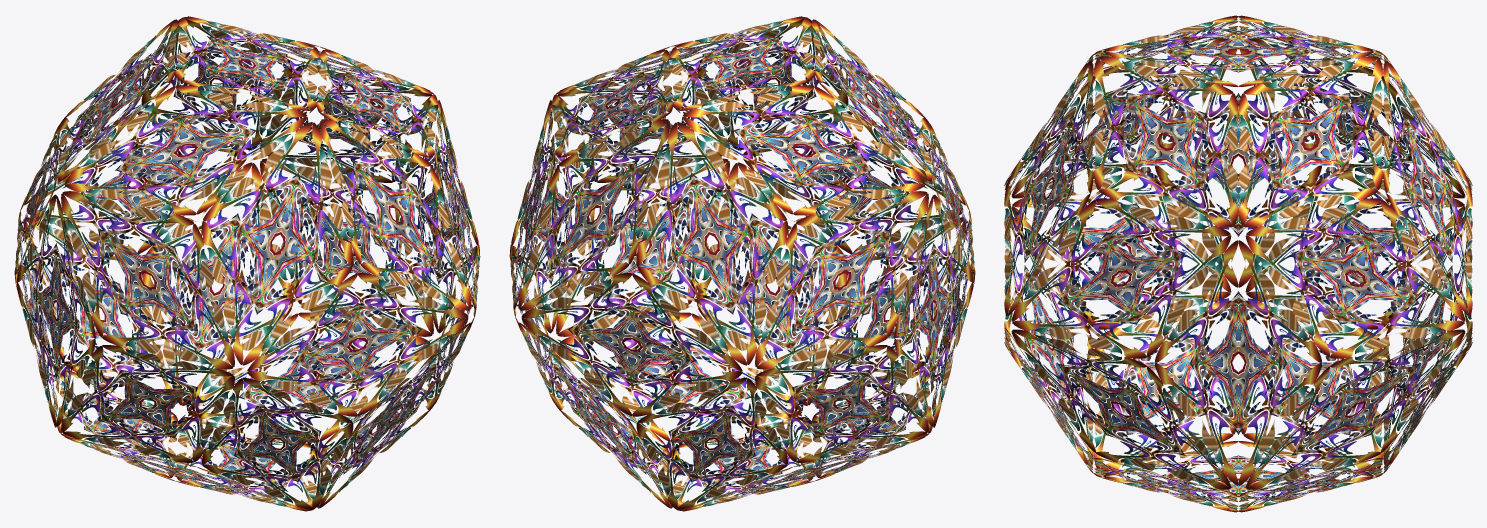
File: RhombicTriacontahedron9.obj
3 renders of one model, left to right at view 1: azimuth 30°, elevation 25°; view 2: azimuth 150°, elevation 25°; view 3: azimuth 270°, elevation 25°, orthographic. The views are drawn at different scales.
Bounding box in the file's own units: 2.93 × 2.93 × 2.93.
1 material, 1 textured.
